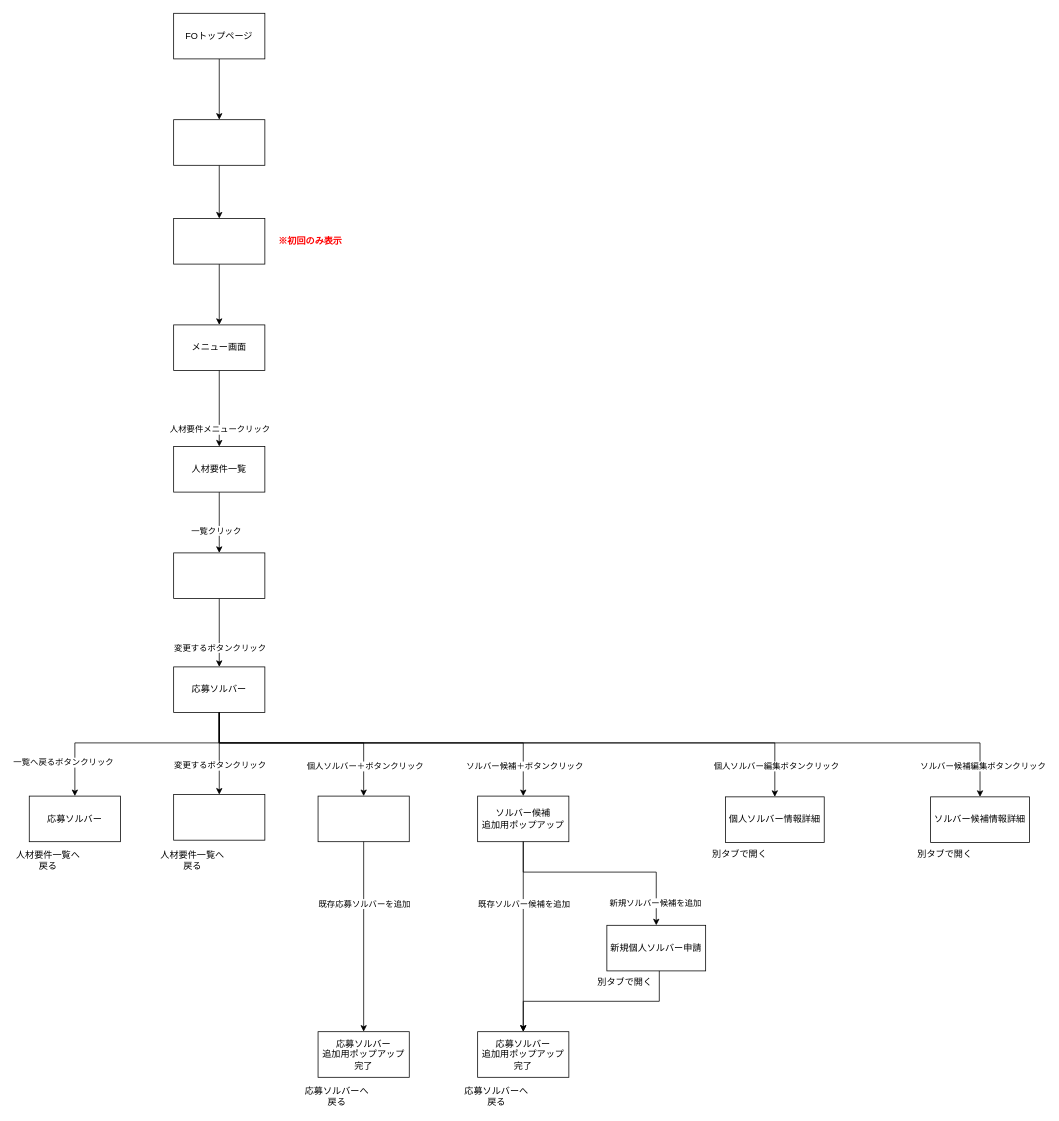
The diagram is 1059 pixels wide and 1121 high, and some of its shapes have lost their labels. The shapes that lost their labels are listed below. From the top down, each one's centre as x and y in pixels, then its label:
point (219, 142): ログイン画面
point (219, 241): 利用規約
point (219, 575): 人材要件詳細
point (219, 817): 応募ソルバー 登録完了
point (363, 818): 応募ソルバー 追加用ポップアップ
